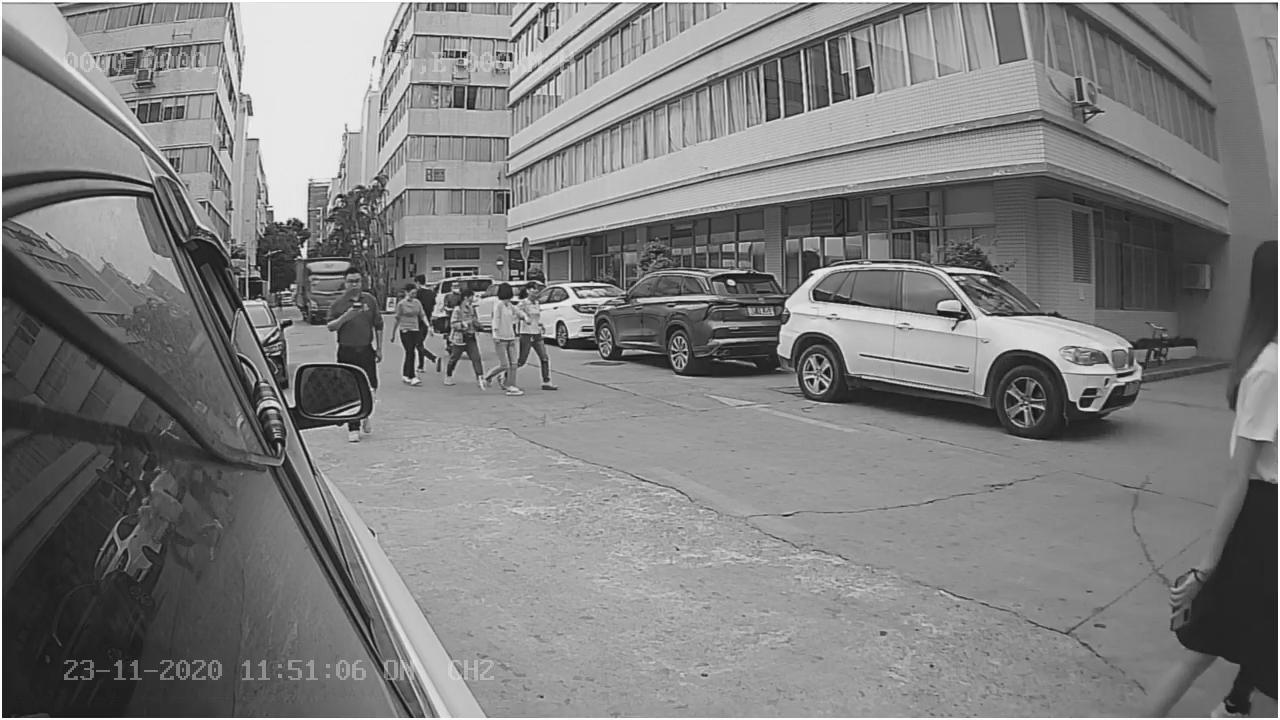person: (323, 263, 386, 359)
